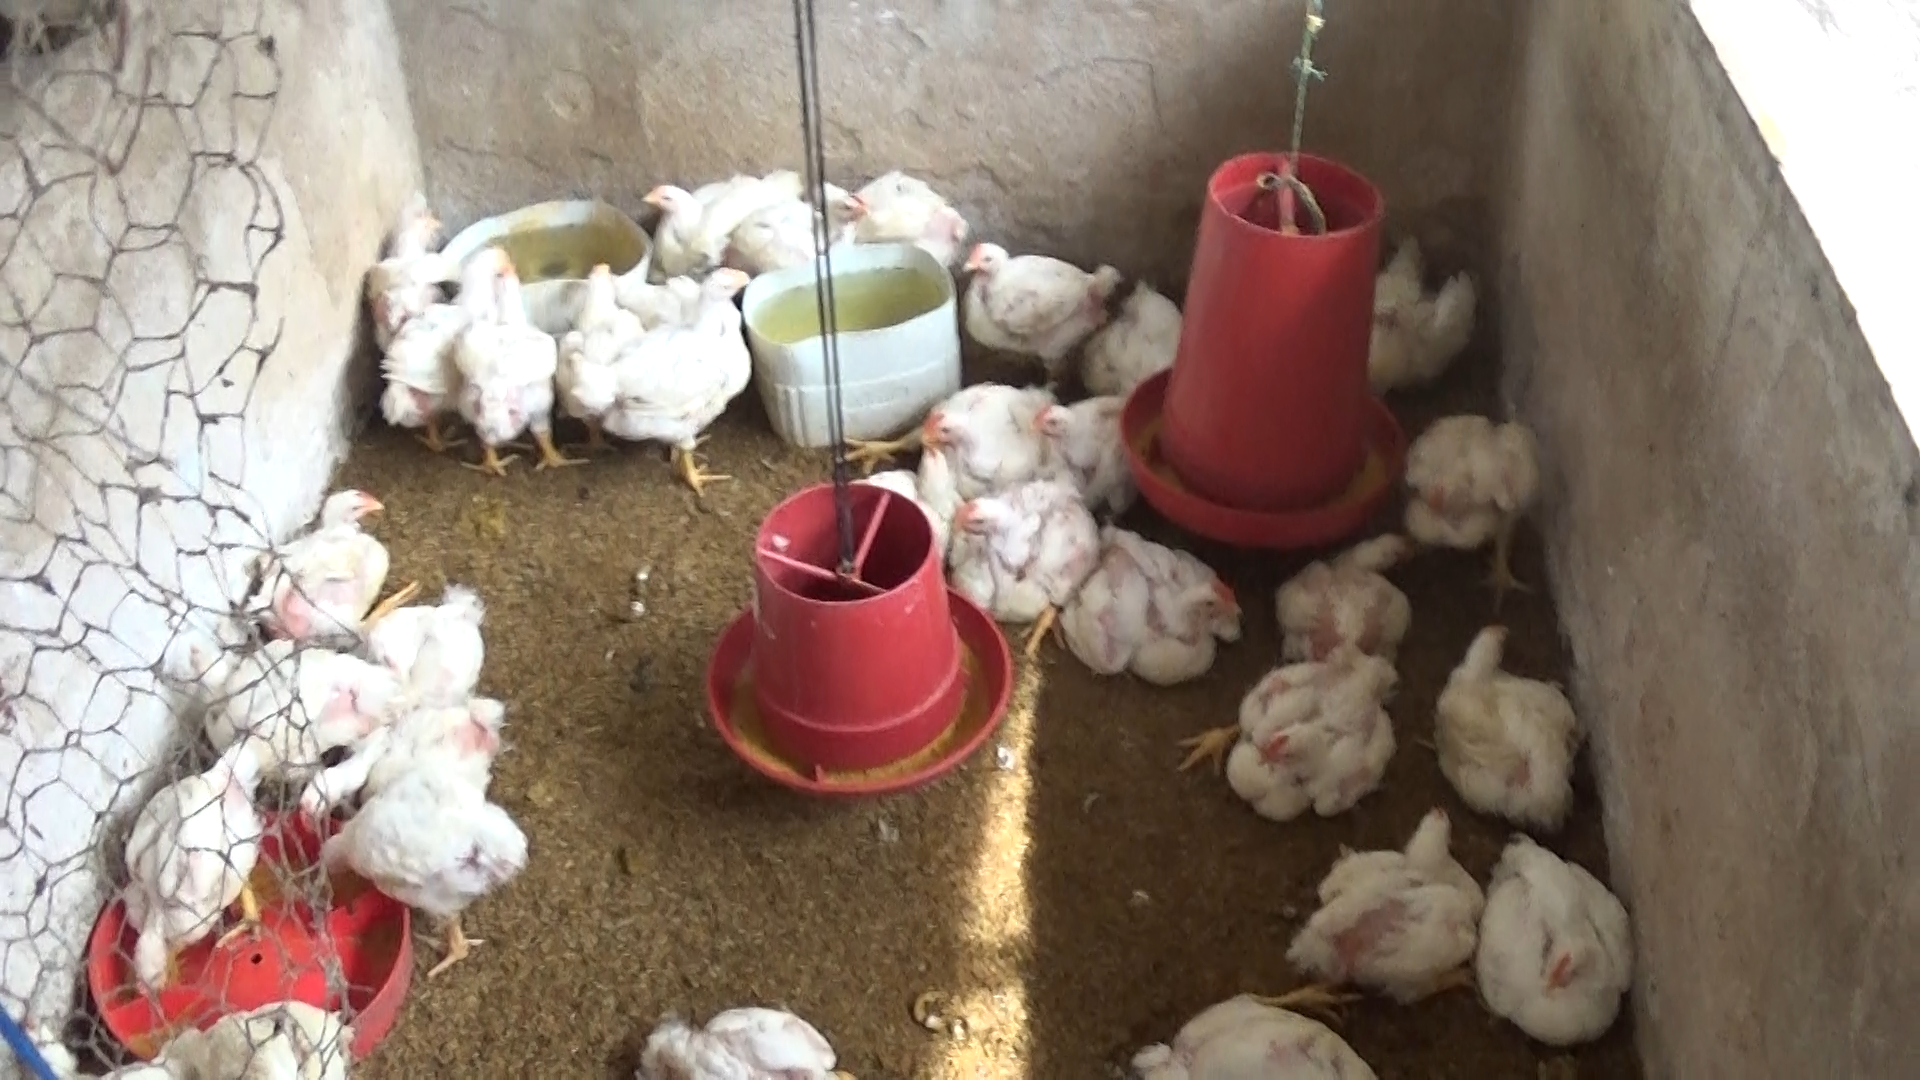Pollos: (1164, 642, 1414, 816), (306, 782, 527, 975), (120, 735, 281, 1000), (1280, 804, 1487, 997), (1461, 832, 1644, 1044), (1433, 615, 1594, 841), (612, 266, 760, 492), (1051, 520, 1253, 684), (227, 477, 425, 642), (1391, 404, 1557, 585), (375, 235, 512, 452), (947, 229, 1121, 388), (936, 477, 1098, 642), (1124, 988, 1385, 1080), (1266, 522, 1422, 667), (467, 253, 556, 481), (1360, 239, 1481, 393), (915, 375, 1033, 531), (551, 262, 645, 458), (636, 169, 800, 277), (349, 578, 491, 696), (1025, 386, 1160, 508), (353, 688, 520, 787), (745, 179, 873, 284), (363, 212, 460, 334)
